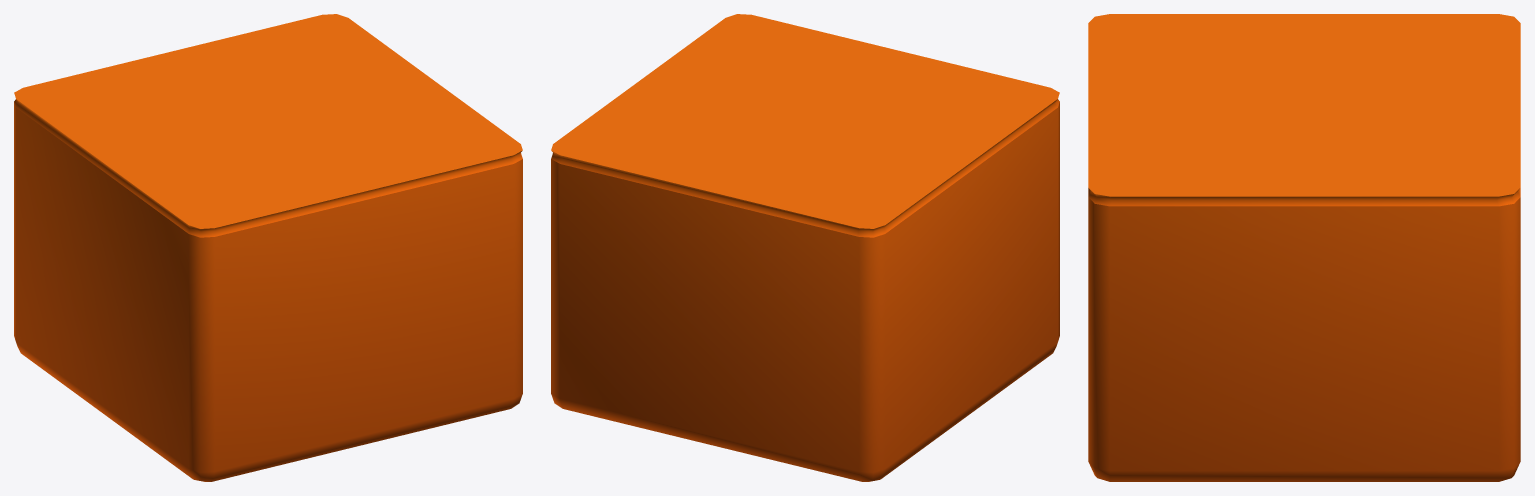
File: 3D_Tile_Socket_Ground_02.fbx
3 renders of one model, left to right at view 1: azimuth 30°, elevation 25°; view 2: azimuth 150°, elevation 25°; view 3: azimuth 270°, elevation 25°, orthographic. The views are drawn at different scales.
Visible parts, largest first — view 1: 3D_Tile_Socket_Ground_02; view 2: 3D_Tile_Socket_Ground_02; view 3: 3D_Tile_Socket_Ground_02.
Boxes of the visible parts, left/top/right/bottom form: 3D_Tile_Socket_Ground_02: left=14, top=14, right=522, bottom=481; 3D_Tile_Socket_Ground_02: left=551, top=14, right=1059, bottom=481; 3D_Tile_Socket_Ground_02: left=1088, top=14, right=1520, bottom=481.
Size of the model in its own units: 200 by 150 by 200.
